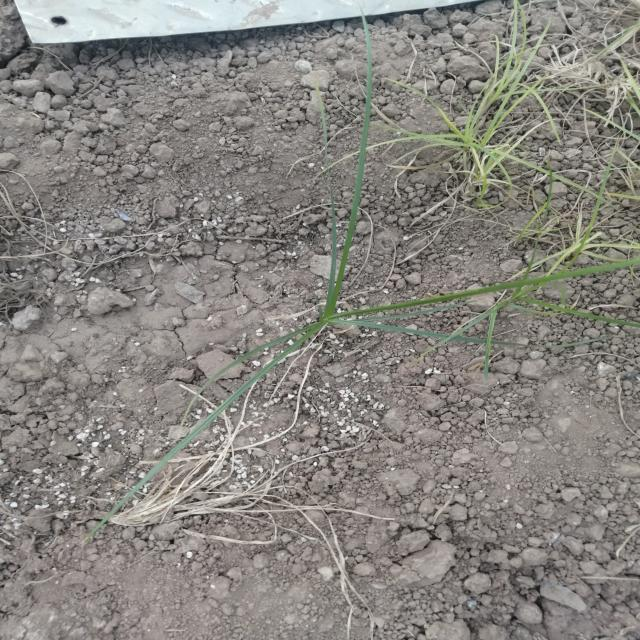sedge: (124, 87, 637, 533)
